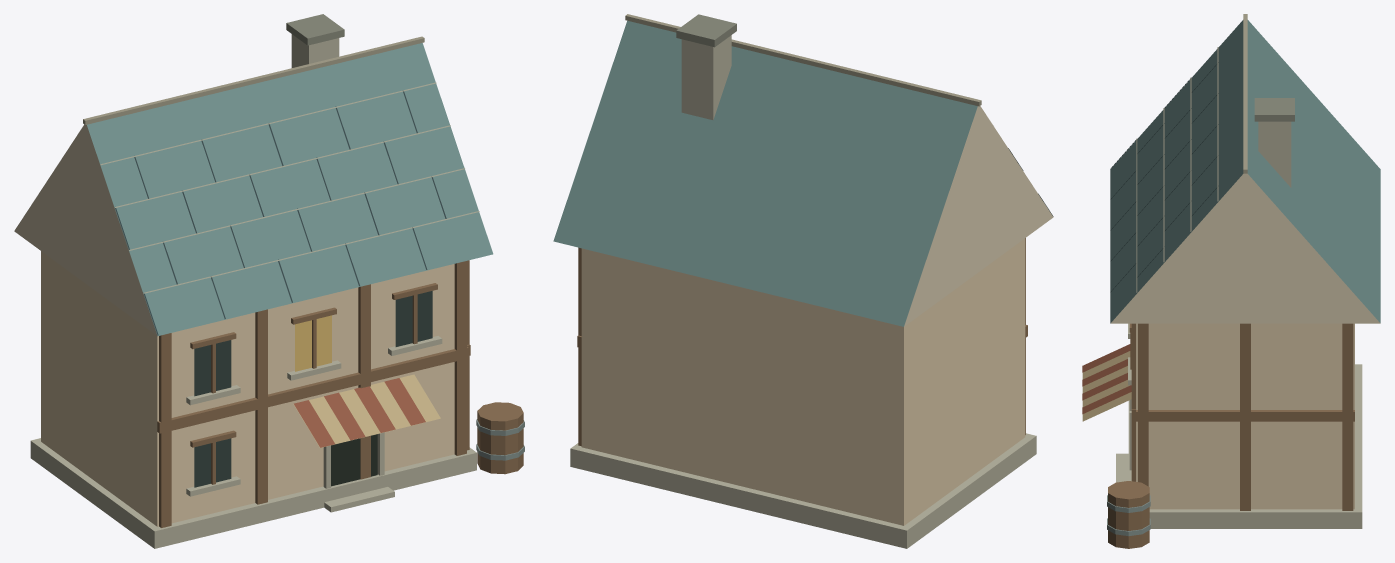
Rendered from capital-house-shop.glb.
3 views of the same model, side by side, from view 1: azimuth 30°, elevation 25°; view 2: azimuth 150°, elevation 25°; view 3: azimuth 270°, elevation 25° (orthographic). The views are drawn at different scales.
Visible parts, largest first — view 1: Building; view 2: Building; view 3: Building.
Boxes of the visible parts, left/top/right/bottom form: Building: left=14, top=14, right=524, bottom=548; Building: left=553, top=14, right=1053, bottom=548; Building: left=1082, top=14, right=1380, bottom=548.
Size of the model in its own units: 112 by 116 by 81.7.
